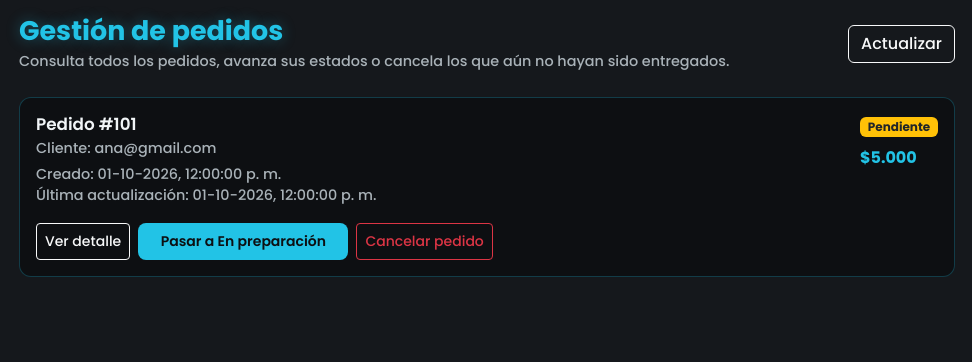
Test: PanelPedidos › cancela con el motivo ingresado y actualiza la vista
Click the button "Cancelar pedido". click: (425, 241)
box: x1=356 y1=223 x2=493 y2=260
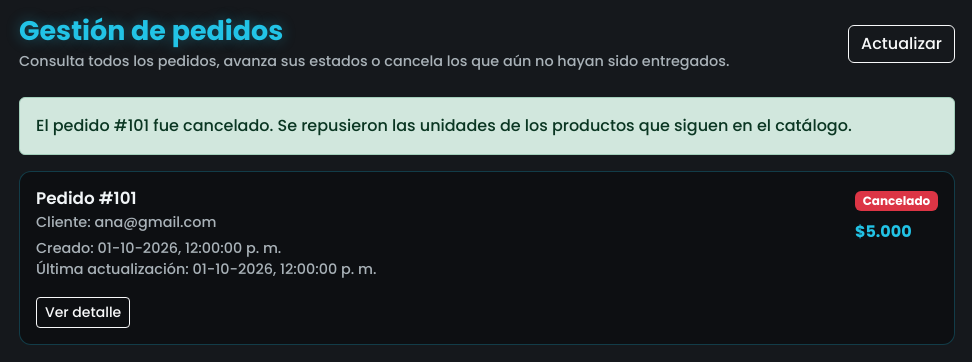
Expected: the message shows "El pedido #101 fue cancelado.", x1=36 y1=114 x2=852 y2=137
Expected: the text "Cancelado" is shown, x1=855 y1=191 x2=938 y2=211
Expected: the button "Cancelar pedido" is gone
